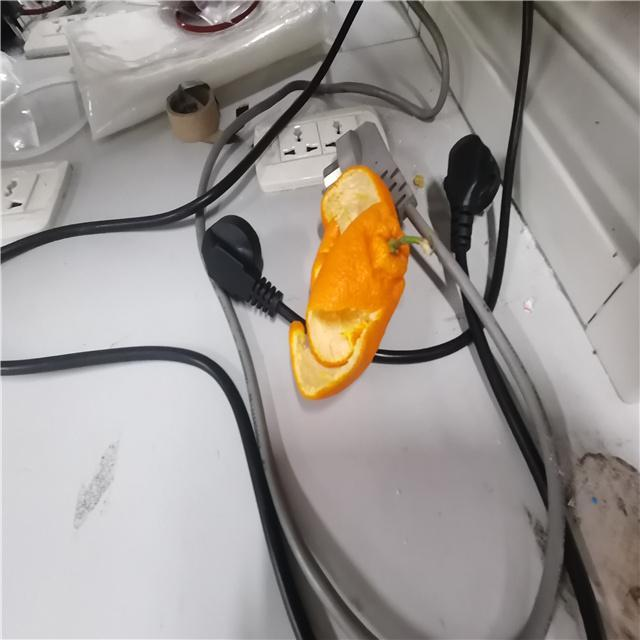orange-peel: (293, 160, 425, 398)
